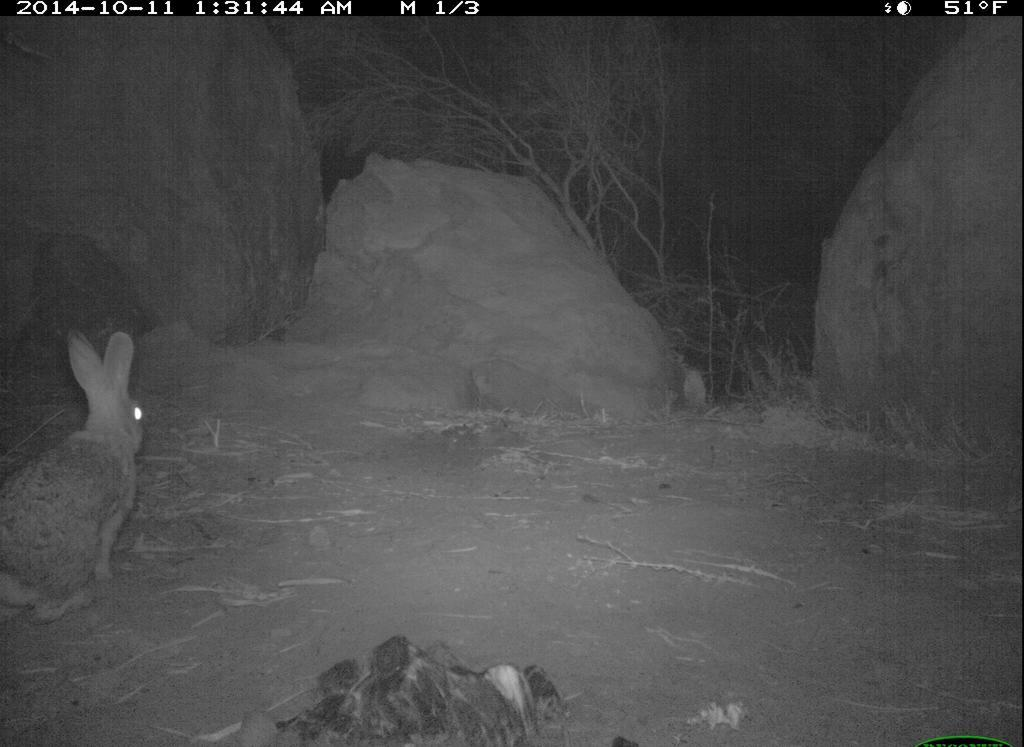rabbit: (6, 300, 158, 626)
